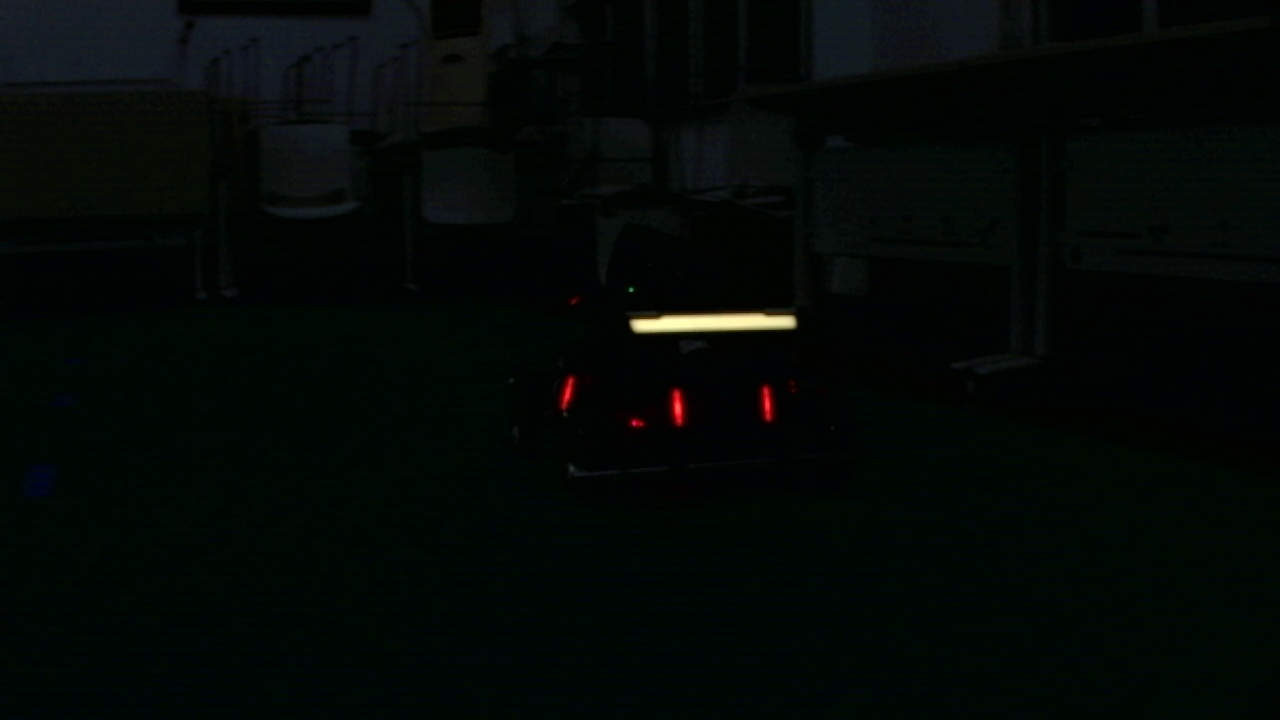lamp: (758, 387, 775, 420), (672, 389, 685, 427)
pair1: (673, 385, 774, 424)
